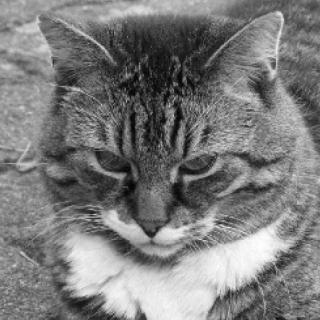cat: (34, 11, 292, 264)
nose: (132, 195, 171, 240)
